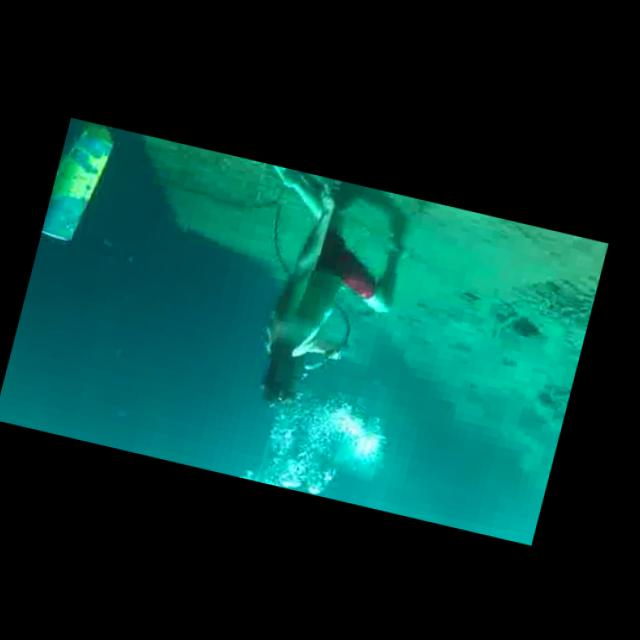human: (210, 160, 429, 428)
